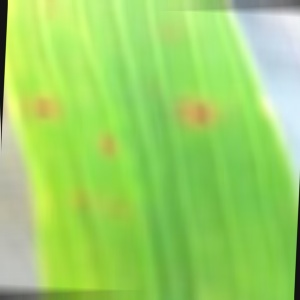Bacterial_Leaf_Blight: (25, 97, 60, 119), (92, 132, 122, 157), (183, 103, 214, 123), (104, 202, 131, 218), (170, 95, 194, 111), (73, 193, 96, 206), (39, 3, 60, 15)
